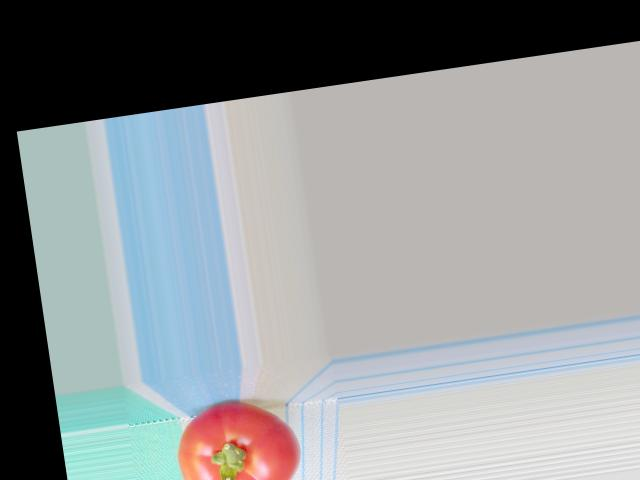tomato: (170, 392, 306, 480)
